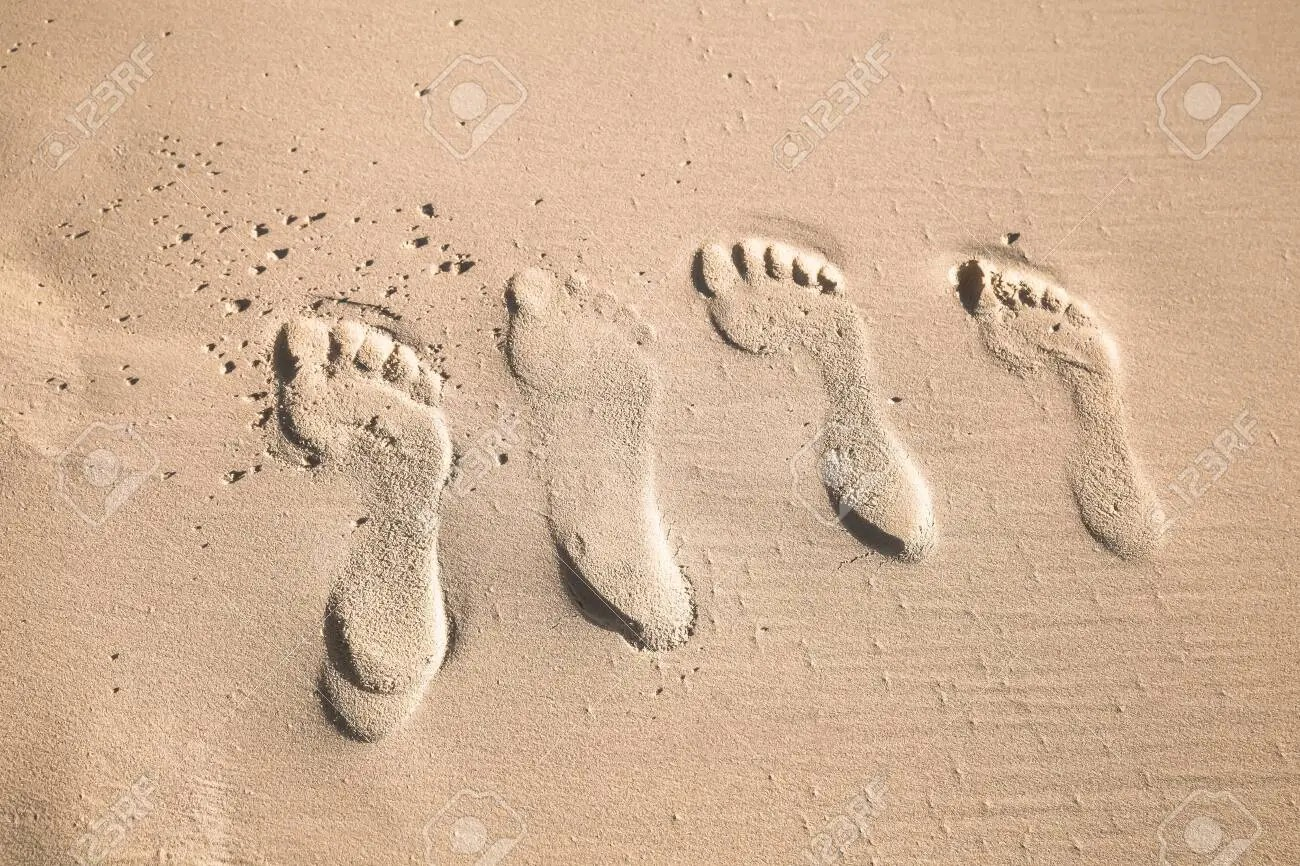human_foot_print: (260, 281, 456, 710), (494, 250, 691, 662), (967, 225, 1187, 592), (725, 222, 933, 565)
